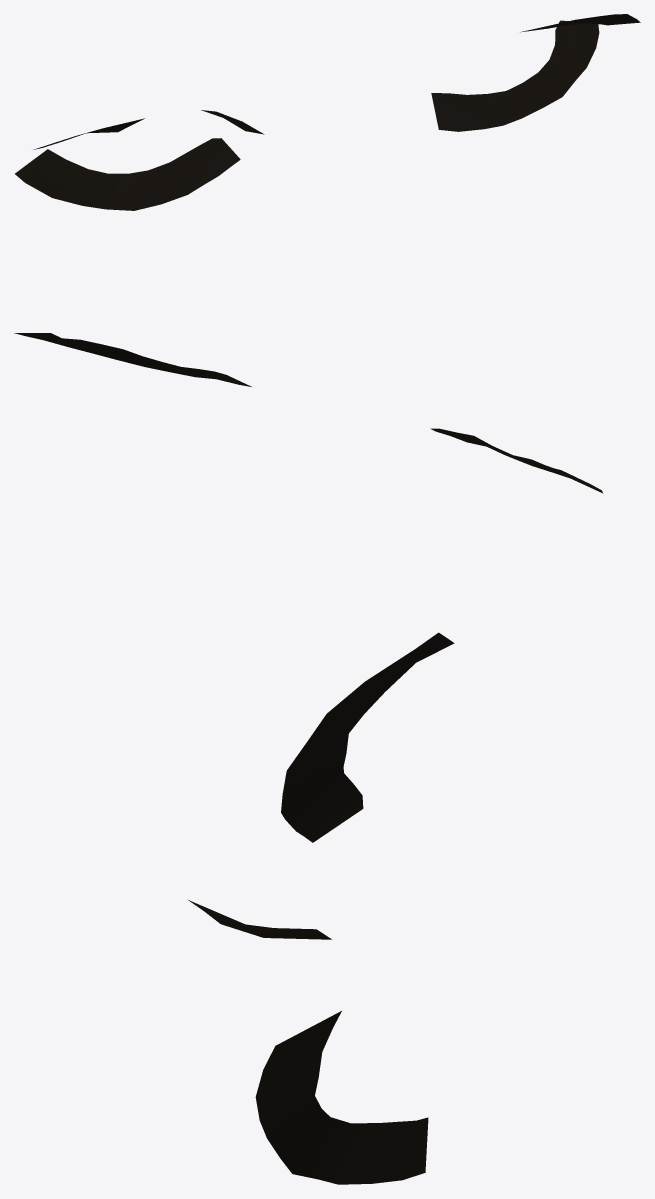
Rendered from RachaelEyelashes.fbx.
3 views of the same model, one above another, from view 1: azimuth 30°, elevation 25°; view 2: azimuth 150°, elevation 25°; view 3: azimuth 270°, elevation 25° (orthographic). The views are drawn at different scales.
Parts seen in each view (by area): view 1: LashR_Down, LashL_Down, LashL_Up, LashR_Up; view 2: LashL_Down, LashR_Down; view 3: LashL_Down, LashR_Down, LashL_Up.
Part boxes in pixels (box(x1,y1,x2,y2)): LashR_Down: box(15, 138, 240, 210); LashL_Down: box(431, 20, 599, 131); LashL_Up: box(520, 14, 640, 32); LashR_Up: box(33, 110, 264, 149); LashL_Down: box(14, 333, 251, 386); LashR_Down: box(430, 428, 603, 493); LashL_Down: box(255, 1011, 428, 1184); LashR_Down: box(281, 632, 454, 842); LashL_Up: box(187, 899, 331, 939).
Size of the model in its own units: 10.1 by 1.73 by 2.12.
1 material, 1 textured.
